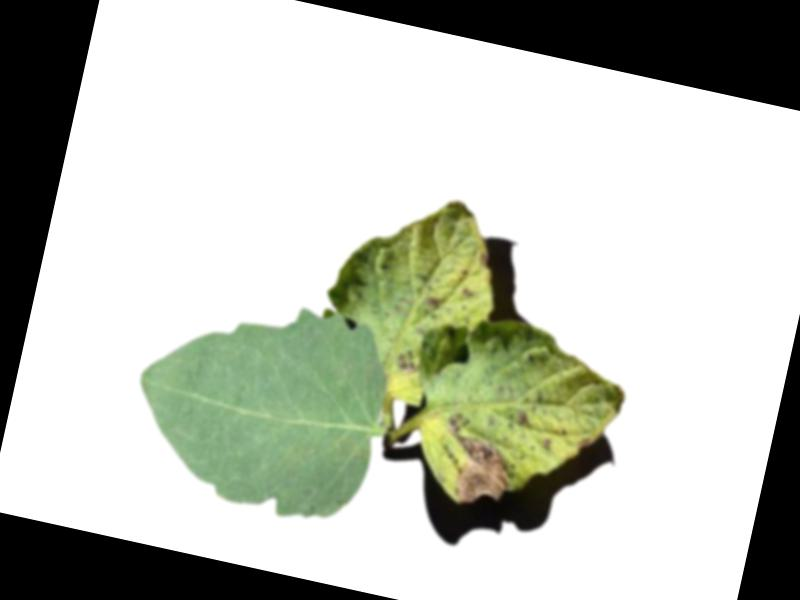Early_blight: (428, 407, 523, 513), (392, 346, 421, 377), (571, 431, 593, 453), (421, 291, 441, 306), (515, 405, 531, 423), (476, 248, 489, 266), (459, 285, 472, 300)
